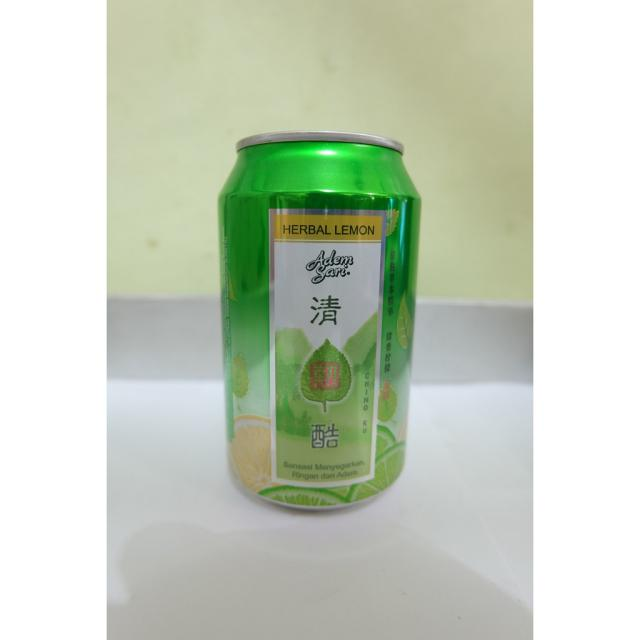ademsarikaleng: (215, 129, 422, 512)
